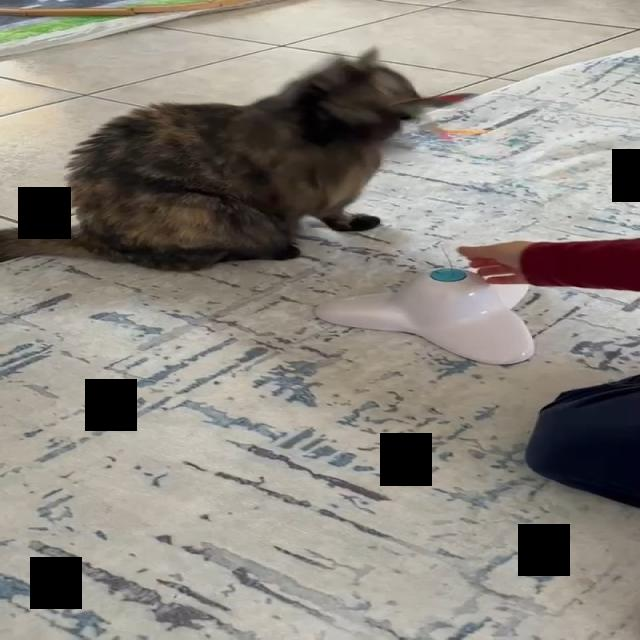authorized: (0, 44, 477, 272)
